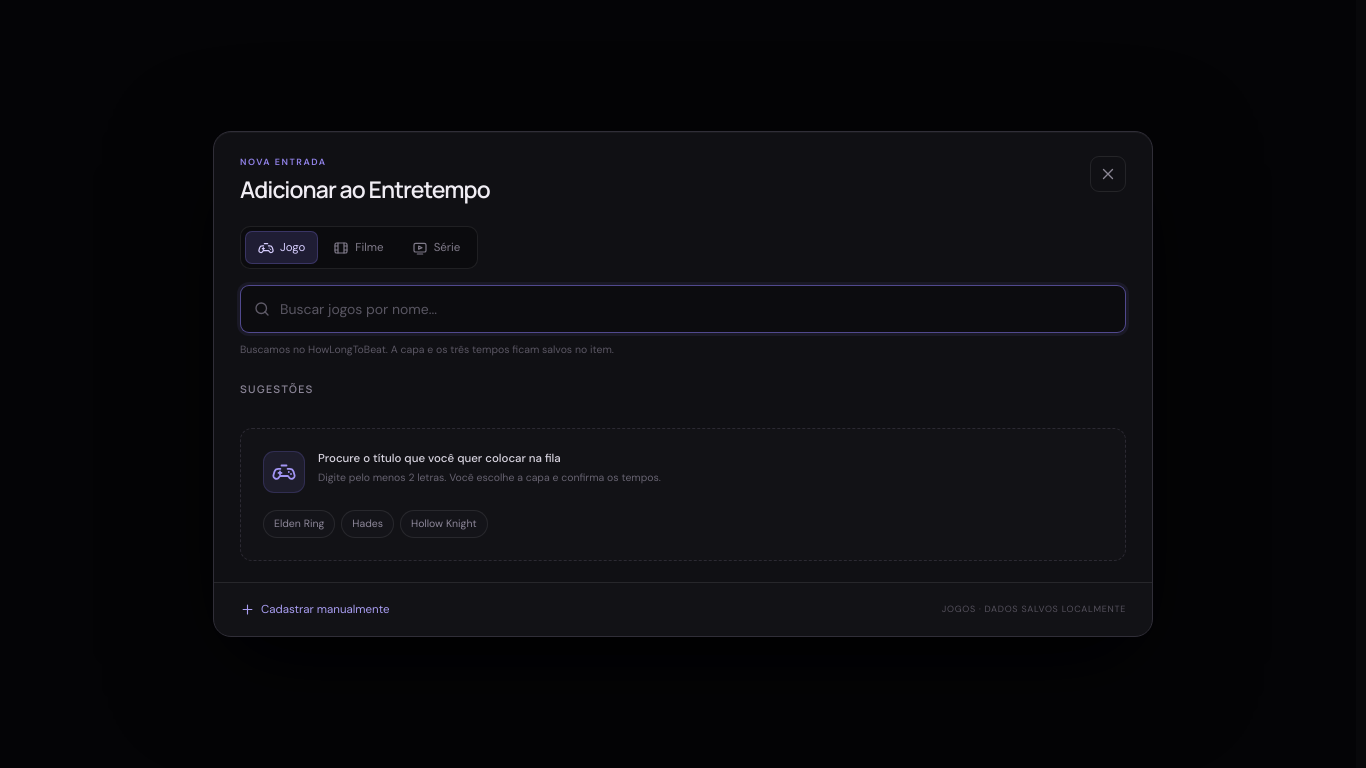
AddItemModal (séries com temporadas) › explica quando o título não tem episódios no IMDb e volta para a busca
This screenshot has width=1366, height=768.
Click the button "Série" at (436, 248), box top-left (399, 231), bottom-right (473, 264)
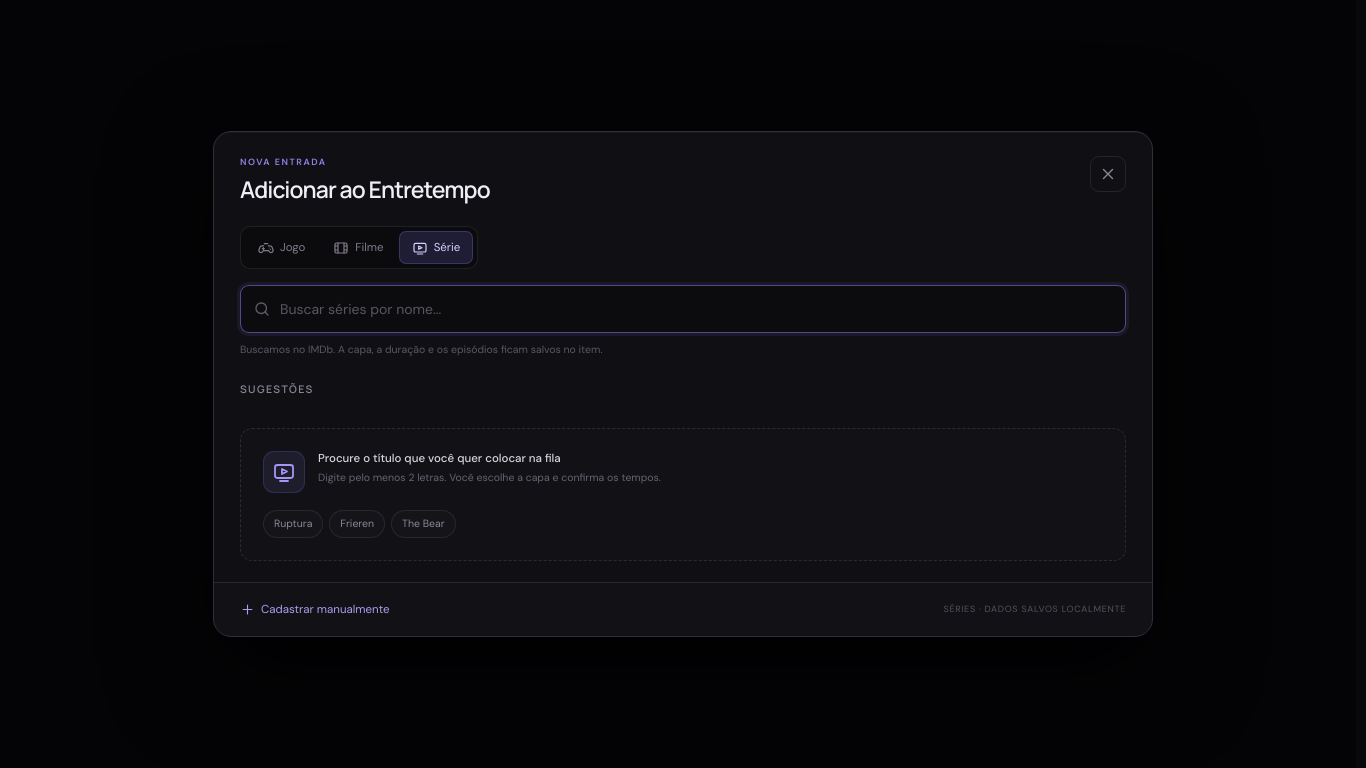
Type "slime" into the field with placeholder "Buscar séries por nome..." at (696, 309), box top-left (280, 300), bottom-right (1113, 318)
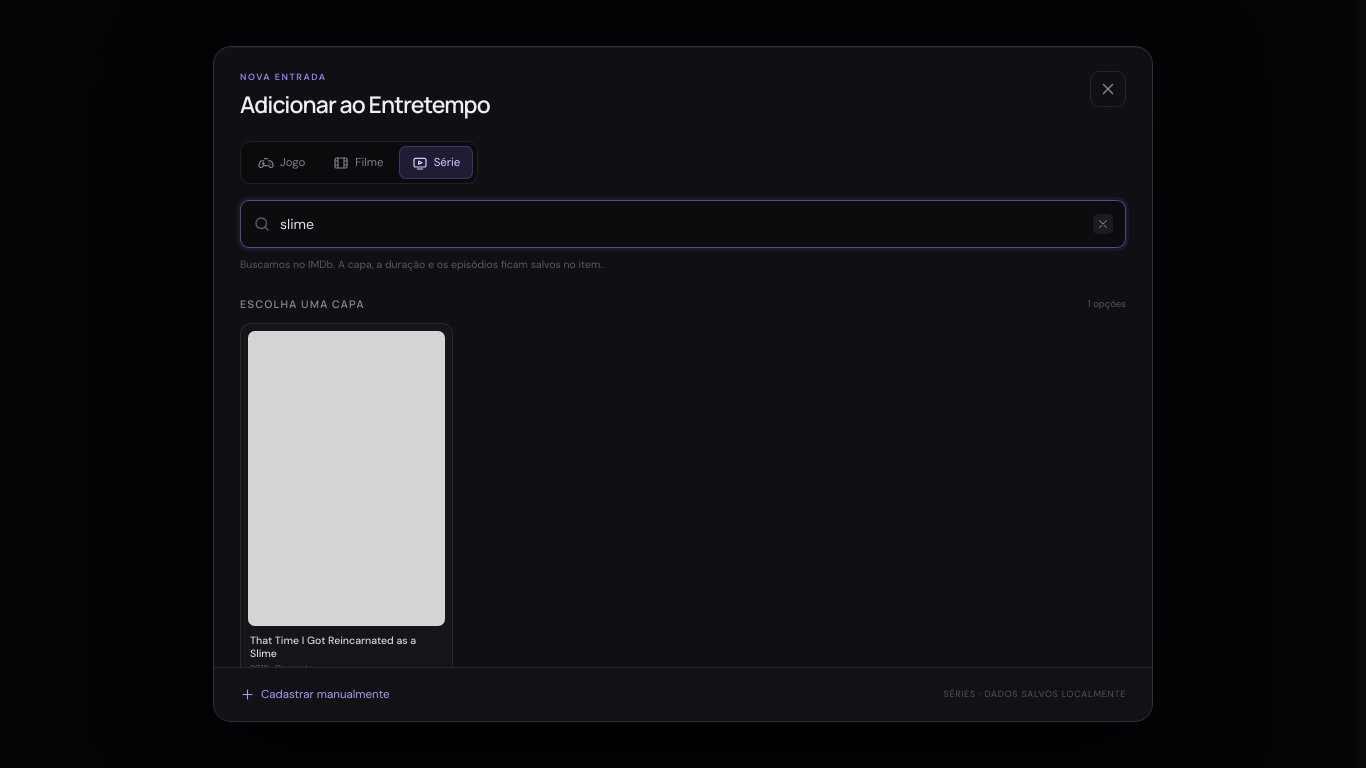
Click the button "That Time I Got Reincarnated as a Slime 2018 · Cinemeta" at (346, 503), box top-left (240, 323), bottom-right (452, 684)
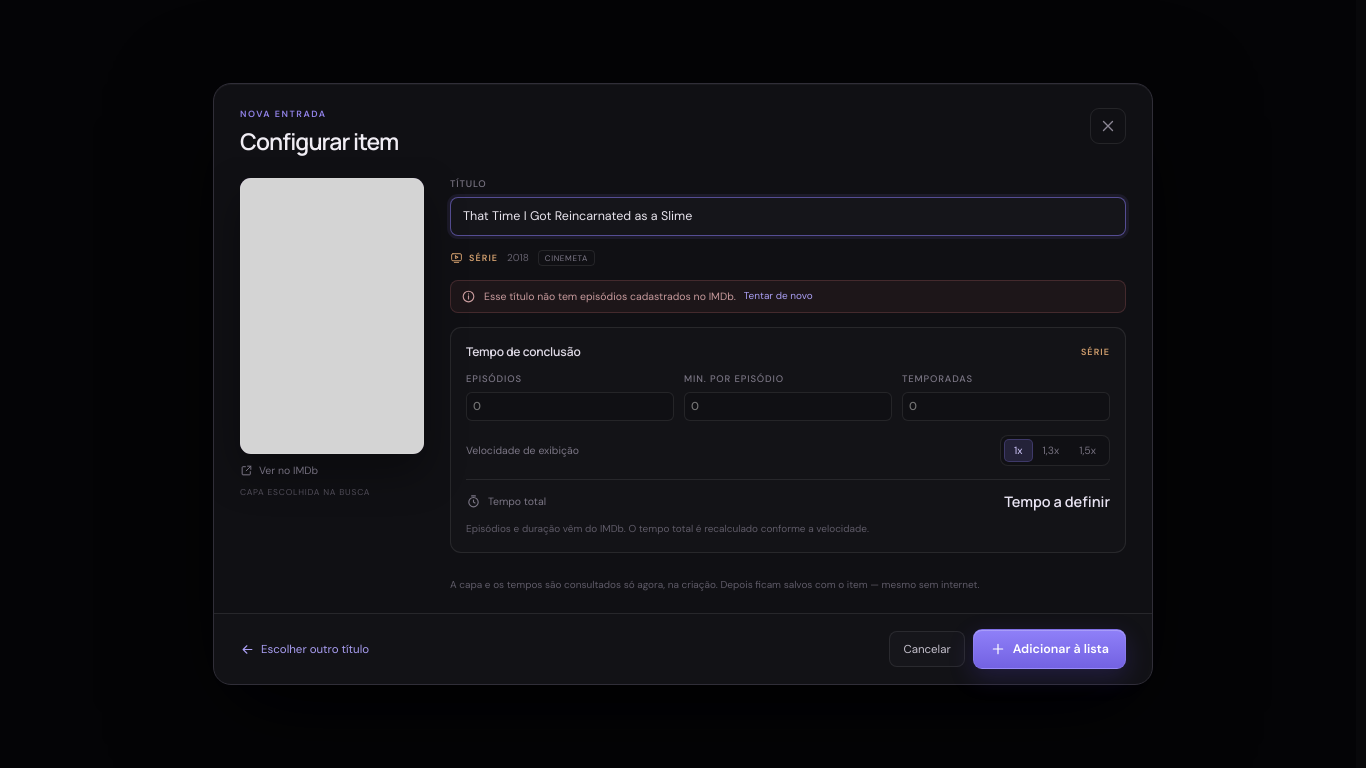
Result: the text "Esse título não tem episódios cadastrados no IMDb." is shown at top-left (484, 289), bottom-right (736, 304)
Click the button "Escolher outro título" at (305, 649), box top-left (240, 638), bottom-right (369, 661)
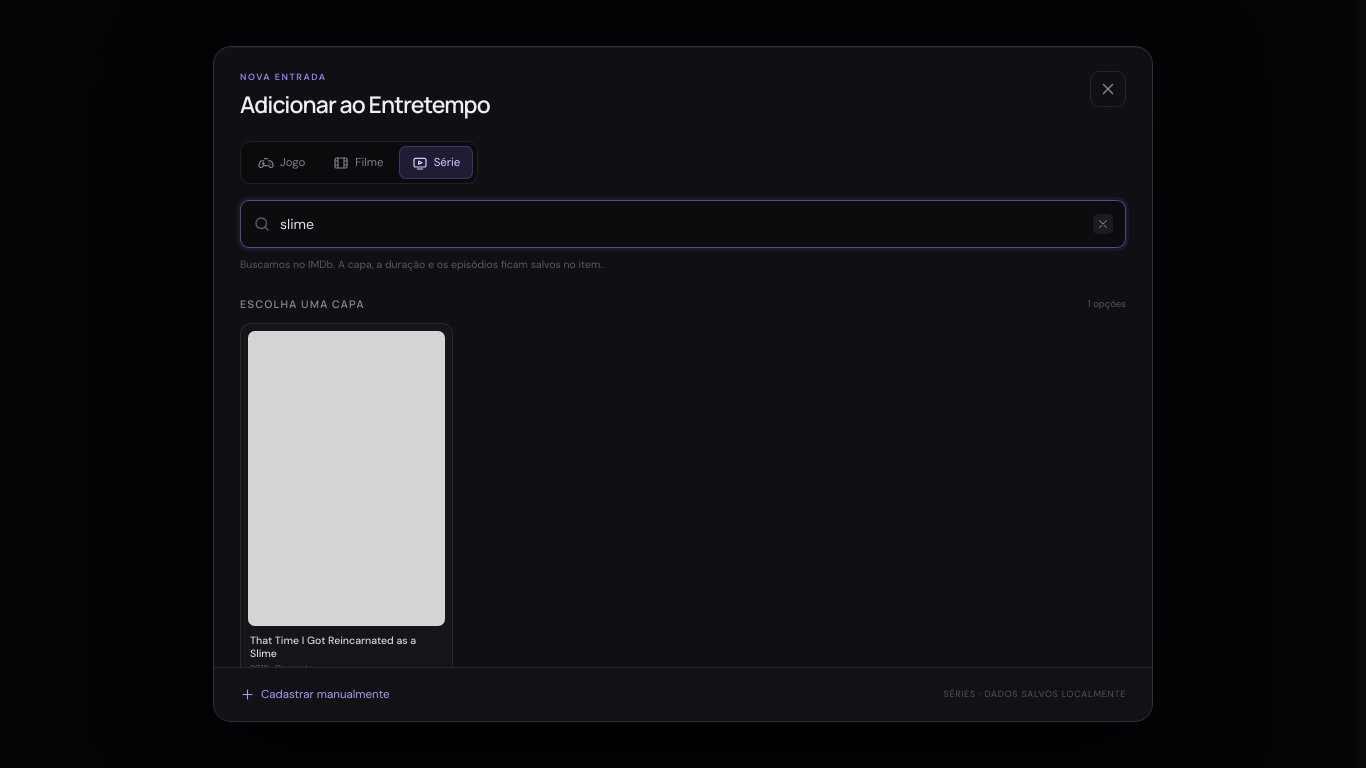
Result: the field with placeholder "Buscar séries por nome..." is shown at top-left (280, 215), bottom-right (1084, 233)
Result: the field labelled "Quantidade de episódios" is gone
